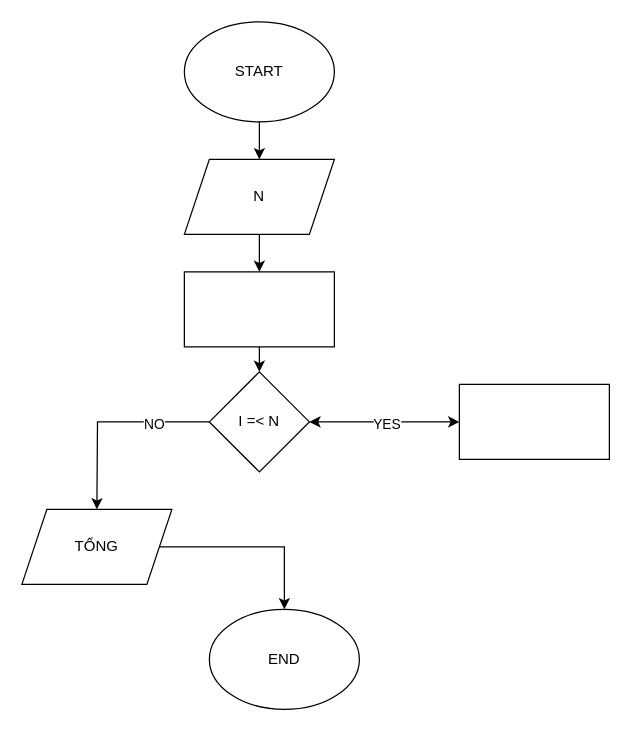
Image size: 631x731. Some labels were removed from this diagram. Each missing label, with the centre of its shape:
TỔNG = I+1 I=I+1: [533,421]
TỔNG =0 I=1: [258,309]
